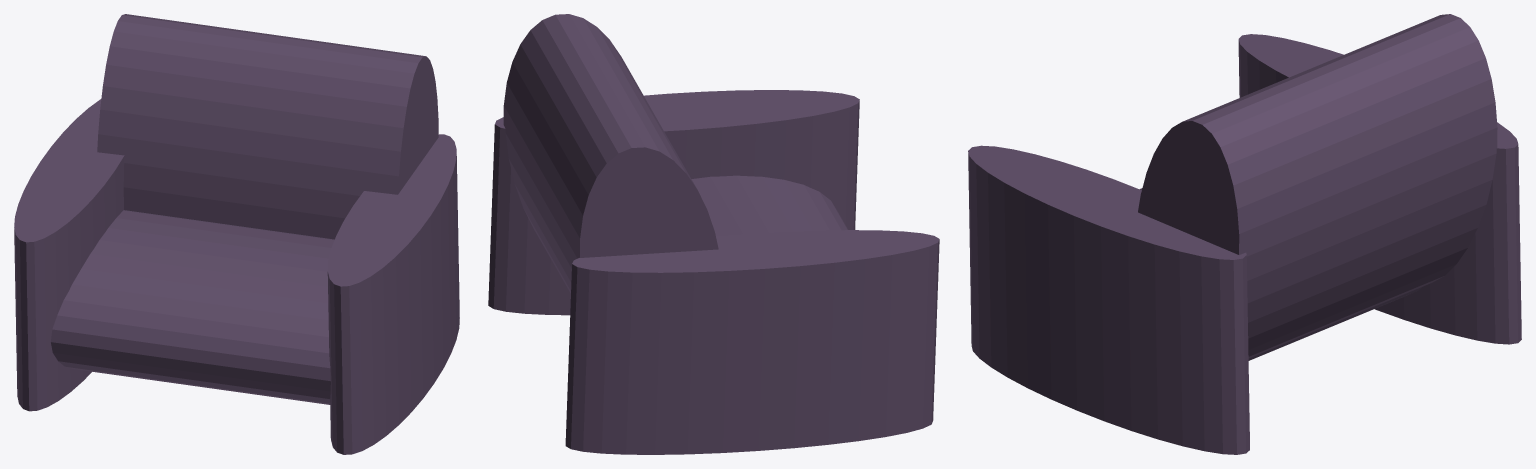
File: stoel.fbx
The picture shows the model from 3 angles, left to right: view 1: azimuth 30°, elevation 25°; view 2: azimuth 150°, elevation 25°; view 3: azimuth 270°, elevation 25°; orthographic projection. The views are drawn at different scales.
Parts seen in each view (by area): view 1: Cylinder.015; view 2: Cylinder.015; view 3: Cylinder.015.
Boxes of the visible parts, left/top/right/bottom form: Cylinder.015: left=14, top=14, right=459, bottom=454; Cylinder.015: left=488, top=14, right=939, bottom=454; Cylinder.015: left=968, top=14, right=1521, bottom=454.
Bounding box in the file's own units: 296 × 188 × 294.
